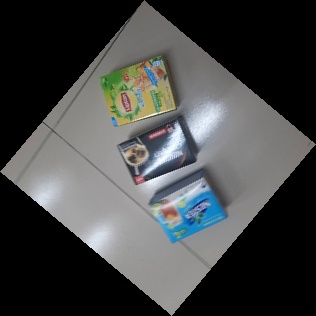CF Viet: (116, 117, 198, 187)
LipTon: (99, 55, 177, 128)
Nestea: (148, 169, 228, 245)
